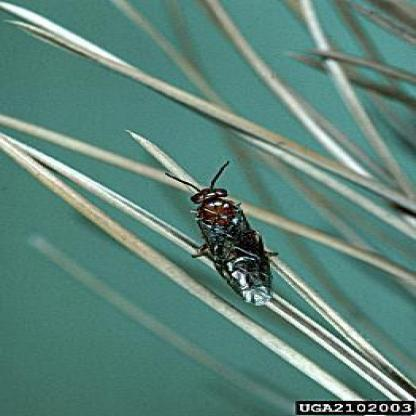sawfly: (167, 162, 289, 320)
